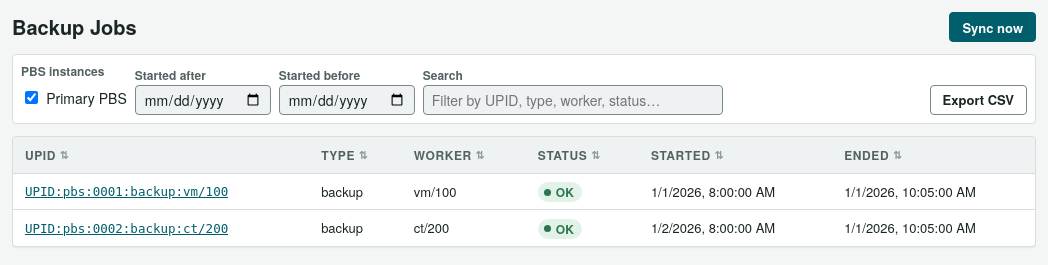
Scenario: TasksPage › shows a distinct empty state when the search matches nothing
The image size is (1048, 265).
Expected: the checkbox labelled "Primary PBS" is shown, [25,91,38,104]
In the field labelled "Search": point(573, 100) [423,85,723,115], type "does-not-exist-anywhere"
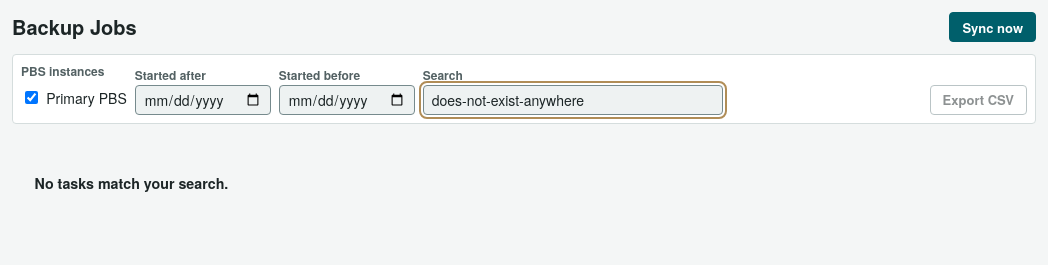
Now the text "No tasks match your search." is shown, box [34,173,228,193]
